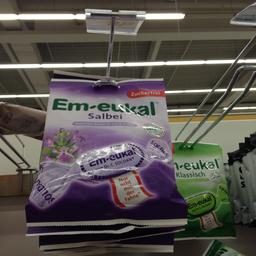candy: (28, 74, 182, 223), (160, 132, 234, 234)
